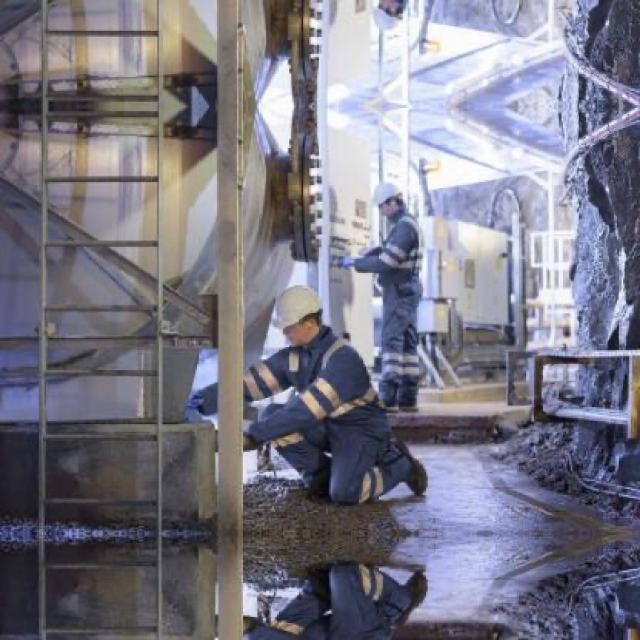con casco: (266, 284, 345, 361)
